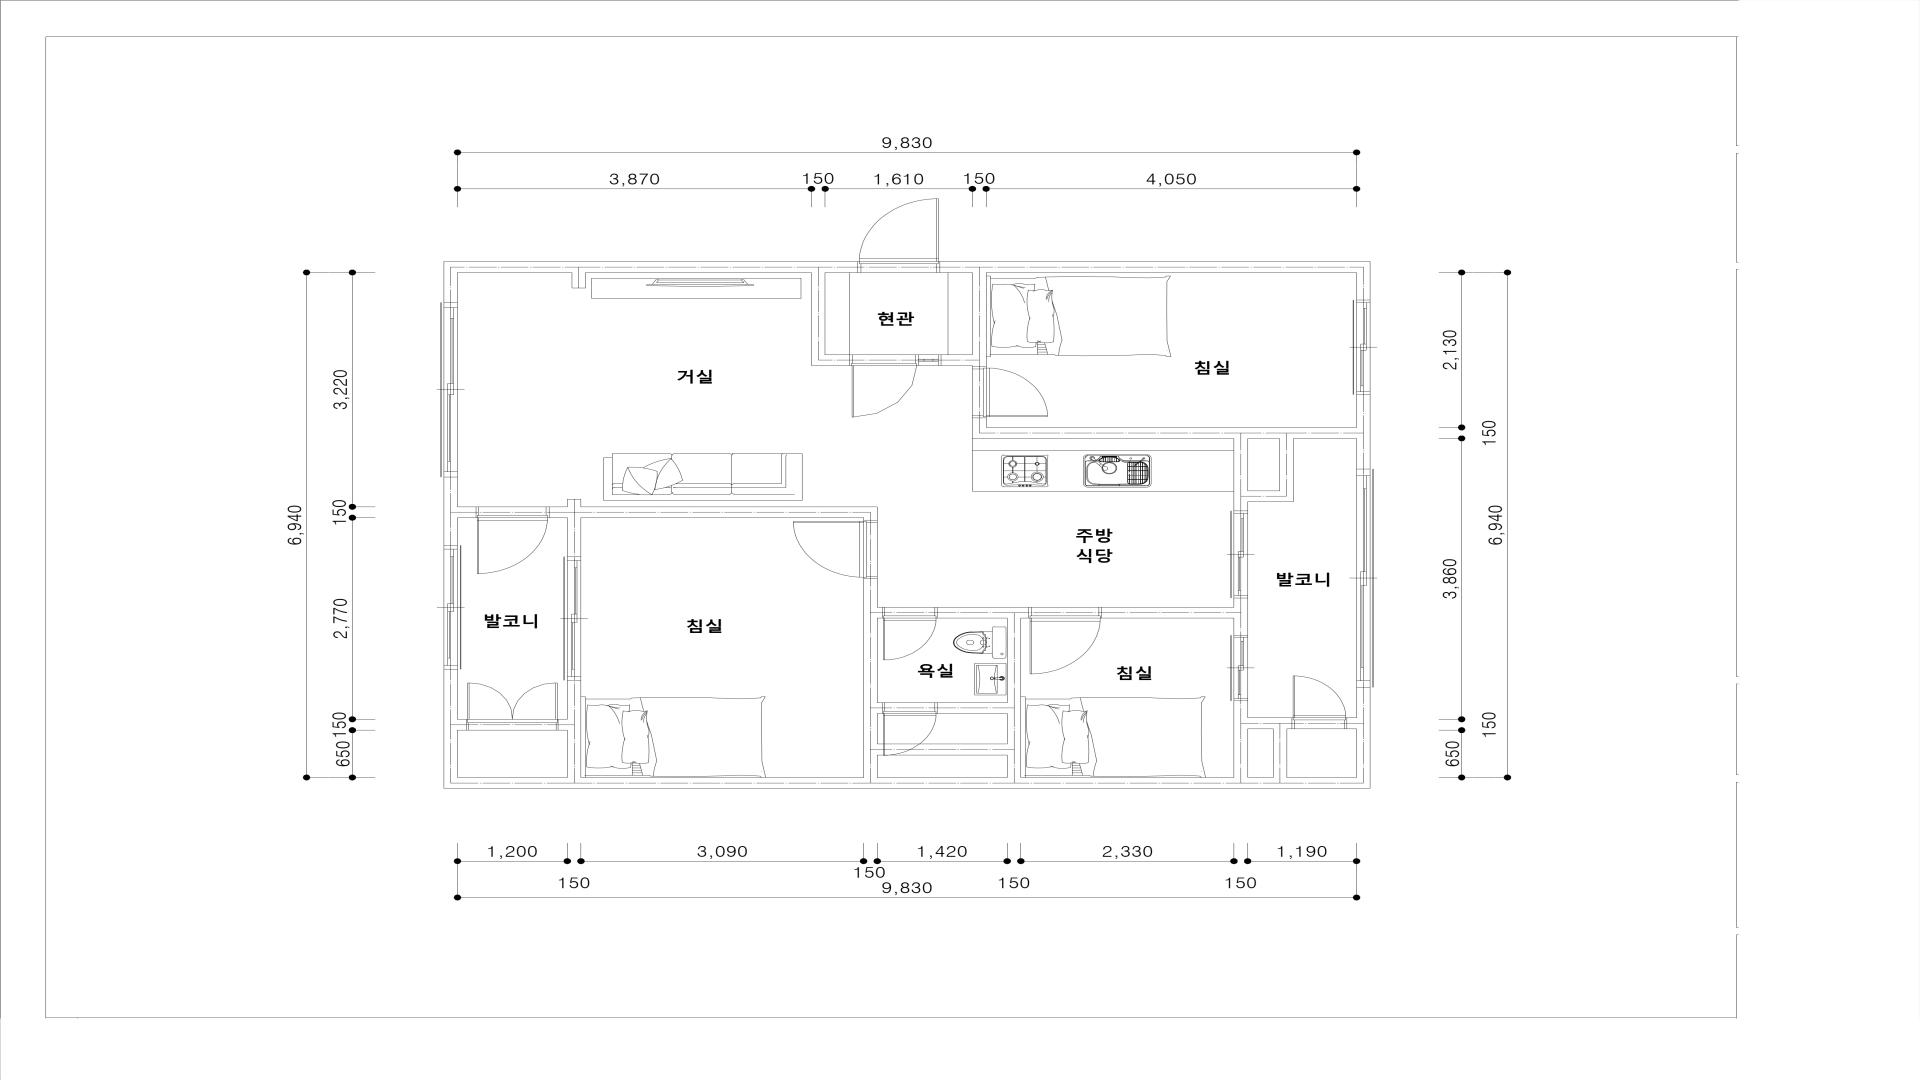door: (857, 198, 940, 273), (790, 520, 877, 579), (1029, 607, 1101, 675), (476, 506, 549, 574), (467, 682, 558, 731), (849, 355, 918, 418), (972, 367, 1051, 418), (1291, 675, 1346, 729), (882, 607, 938, 661), (882, 703, 938, 744), (1234, 512, 1249, 597), (1233, 636, 1249, 700)
wall: (558, 680, 862, 789), (972, 418, 1294, 512), (549, 498, 877, 556), (443, 261, 858, 303), (940, 261, 1370, 301), (938, 607, 1029, 778), (443, 669, 567, 789), (1233, 687, 1370, 789), (862, 713, 1007, 777), (1279, 394, 1370, 469), (1101, 597, 1249, 636), (1233, 700, 1292, 778), (862, 777, 1233, 789), (940, 273, 986, 367), (811, 273, 849, 365), (864, 579, 882, 713), (443, 477, 476, 546), (938, 703, 1007, 713), (918, 355, 940, 365)
window: (1356, 469, 1370, 687), (443, 303, 458, 477), (567, 556, 582, 680), (443, 546, 458, 669), (1356, 301, 1370, 394)
